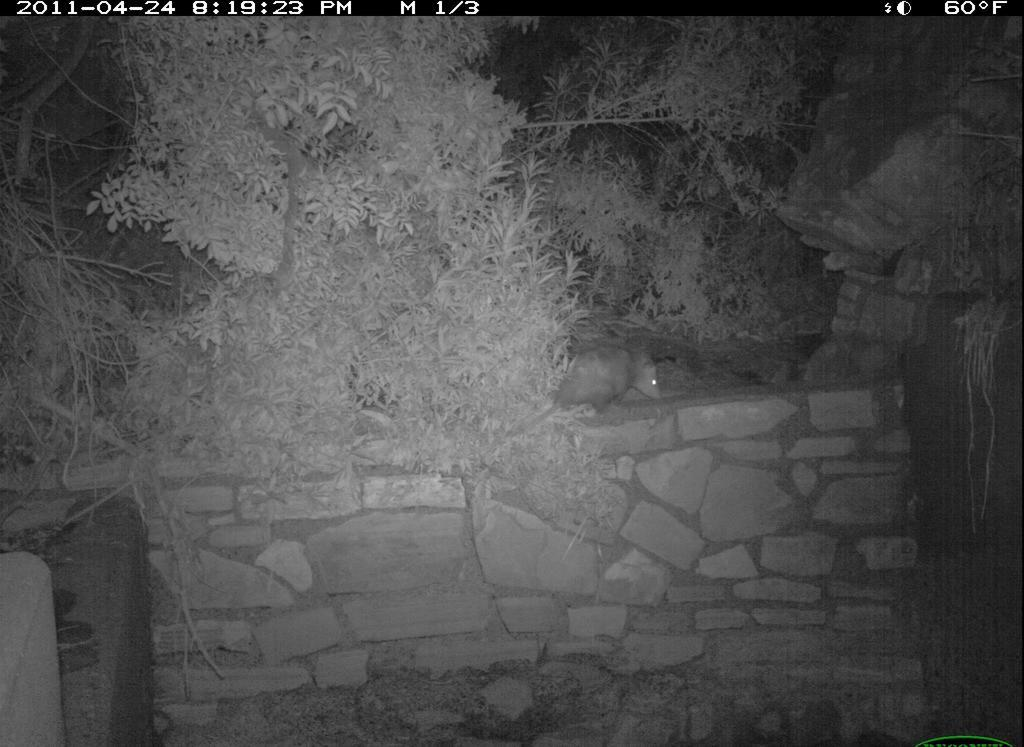opossum: (518, 345, 670, 452)
